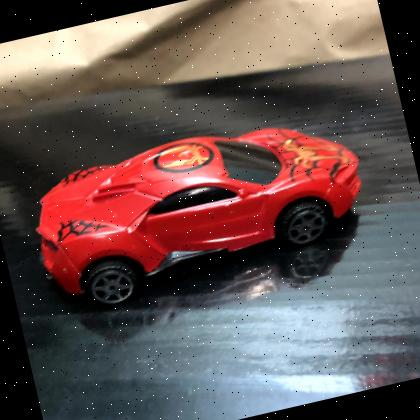Car: (36, 127, 362, 307)
